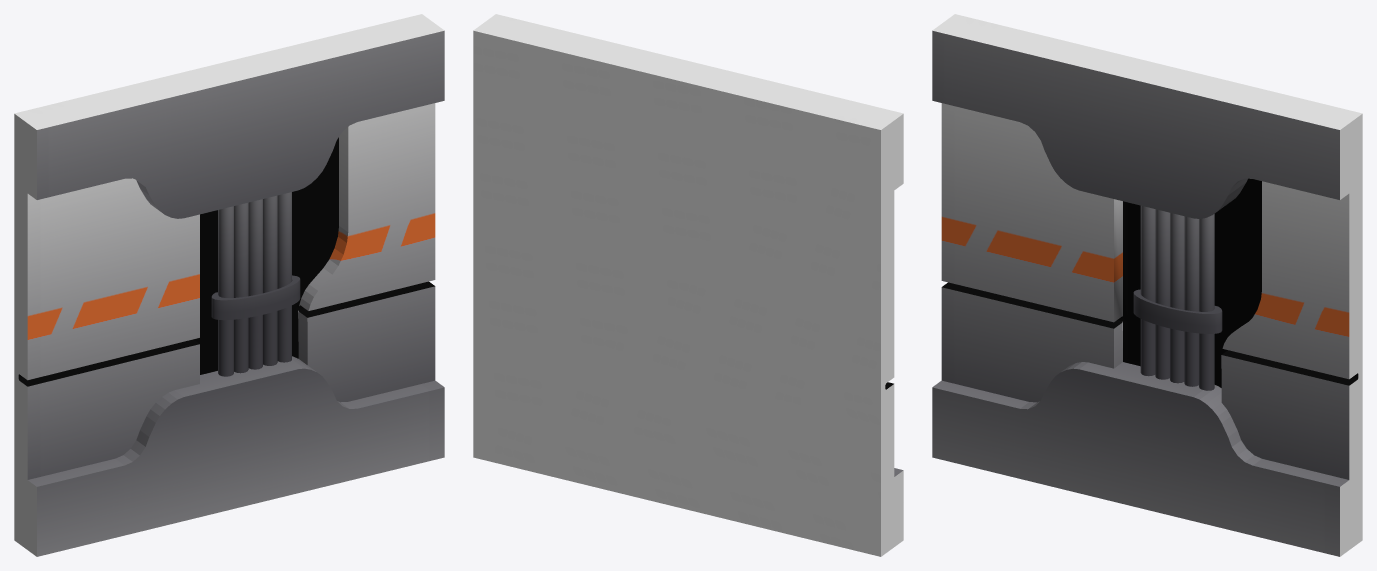
Rendered from 2048_Wall_ExposedPanel.fbx.
3 views of the same model, side by side, from view 1: azimuth 30°, elevation 25°; view 2: azimuth 150°, elevation 25°; view 3: azimuth 330°, elevation 25° (orthographic).
Parts seen in each view (by area): view 1: TEXTURED_WT_ExposedPanel; view 2: TEXTURED_WT_ExposedPanel; view 3: TEXTURED_WT_ExposedPanel.
Part boxes in pixels (x1=…): TEXTURED_WT_ExposedPanel: x1=14, y1=14, x2=444, y2=556; TEXTURED_WT_ExposedPanel: x1=473, y1=14, x2=903, y2=556; TEXTURED_WT_ExposedPanel: x1=932, y1=14, x2=1362, y2=556.
Size of the model in its own units: 200 by 200 by 19.34.
Materials: 1 (1 with a texture image).
